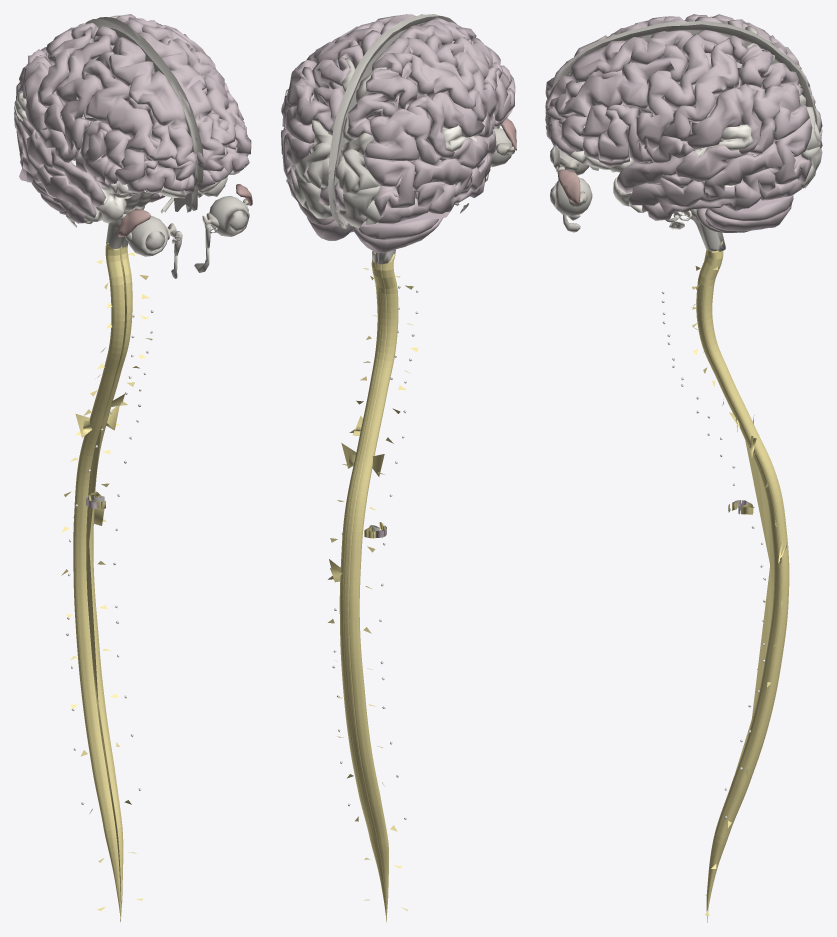
The model's file is nerves.glb.
3 views of the same model, side by side, from view 1: azimuth 30°, elevation 25°; view 2: azimuth 150°, elevation 25°; view 3: azimuth 270°, elevation 25° (orthographic).
Parts seen in each view (by area): view 1: head, torso, other; view 2: head, torso, other; view 3: head, torso, other.
Part boxes in pixels (box(x1,y1,x2,y2)): head: box(14, 14, 252, 508); torso: box(61, 243, 152, 922); other: box(14, 92, 248, 804); head: box(281, 14, 516, 538); torso: box(328, 252, 417, 922); other: box(281, 89, 512, 819); head: box(545, 14, 822, 514); torso: box(691, 241, 789, 922); other: box(552, 55, 765, 818).
Size of the model in its own units: 0.1375 by 0.6462 by 0.1806.
